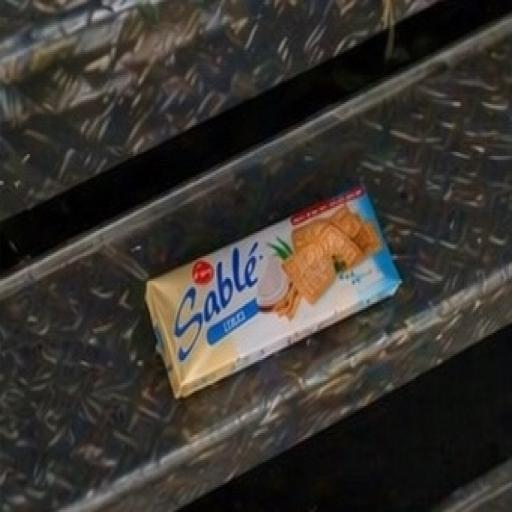sable: (108, 162, 430, 408)
